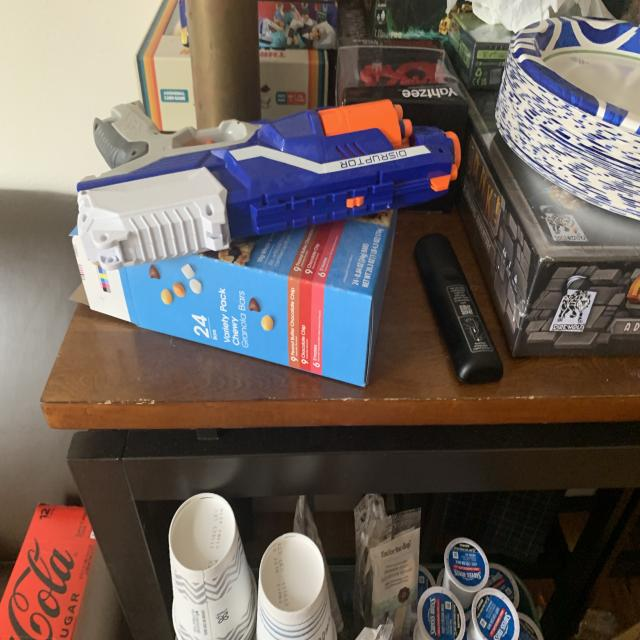nerf-maverik: (60, 80, 477, 280)
